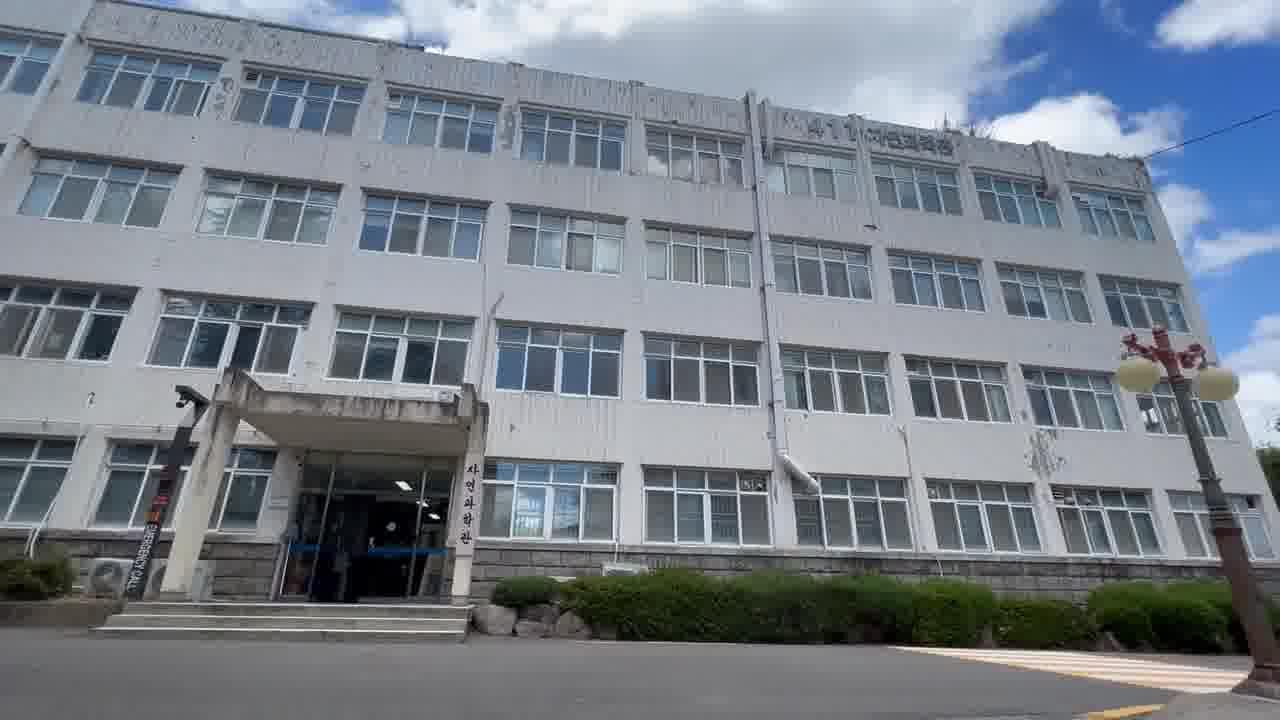building: (4, 30, 1151, 553)
